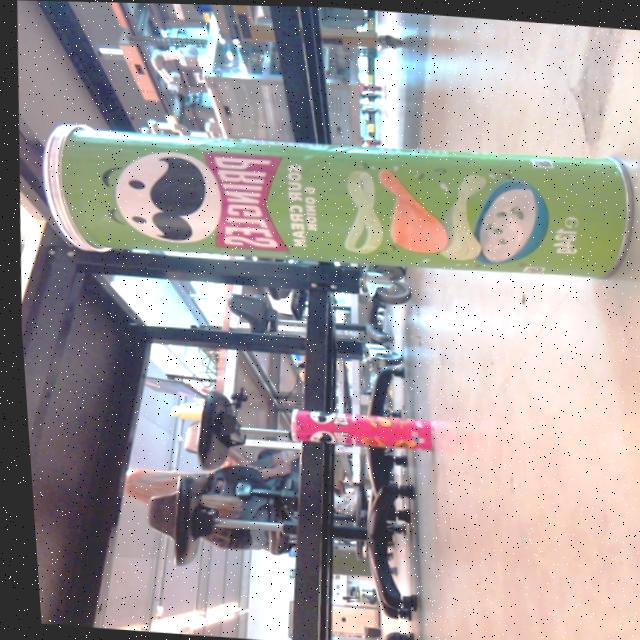greenpringles: (28, 115, 640, 292)
redpringles: (269, 402, 438, 461)
